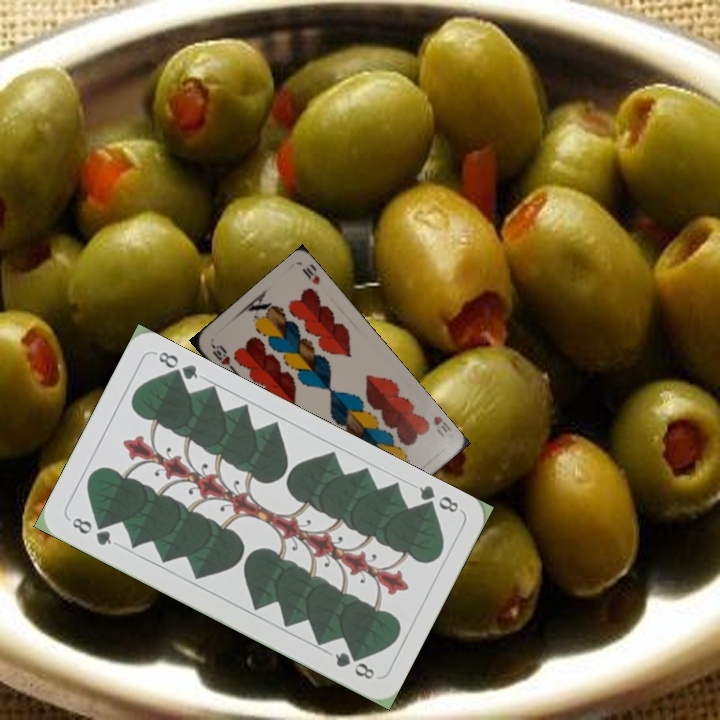G8: (66, 513, 114, 549), (414, 481, 461, 515)
H10: (208, 340, 238, 374), (429, 412, 453, 440)
